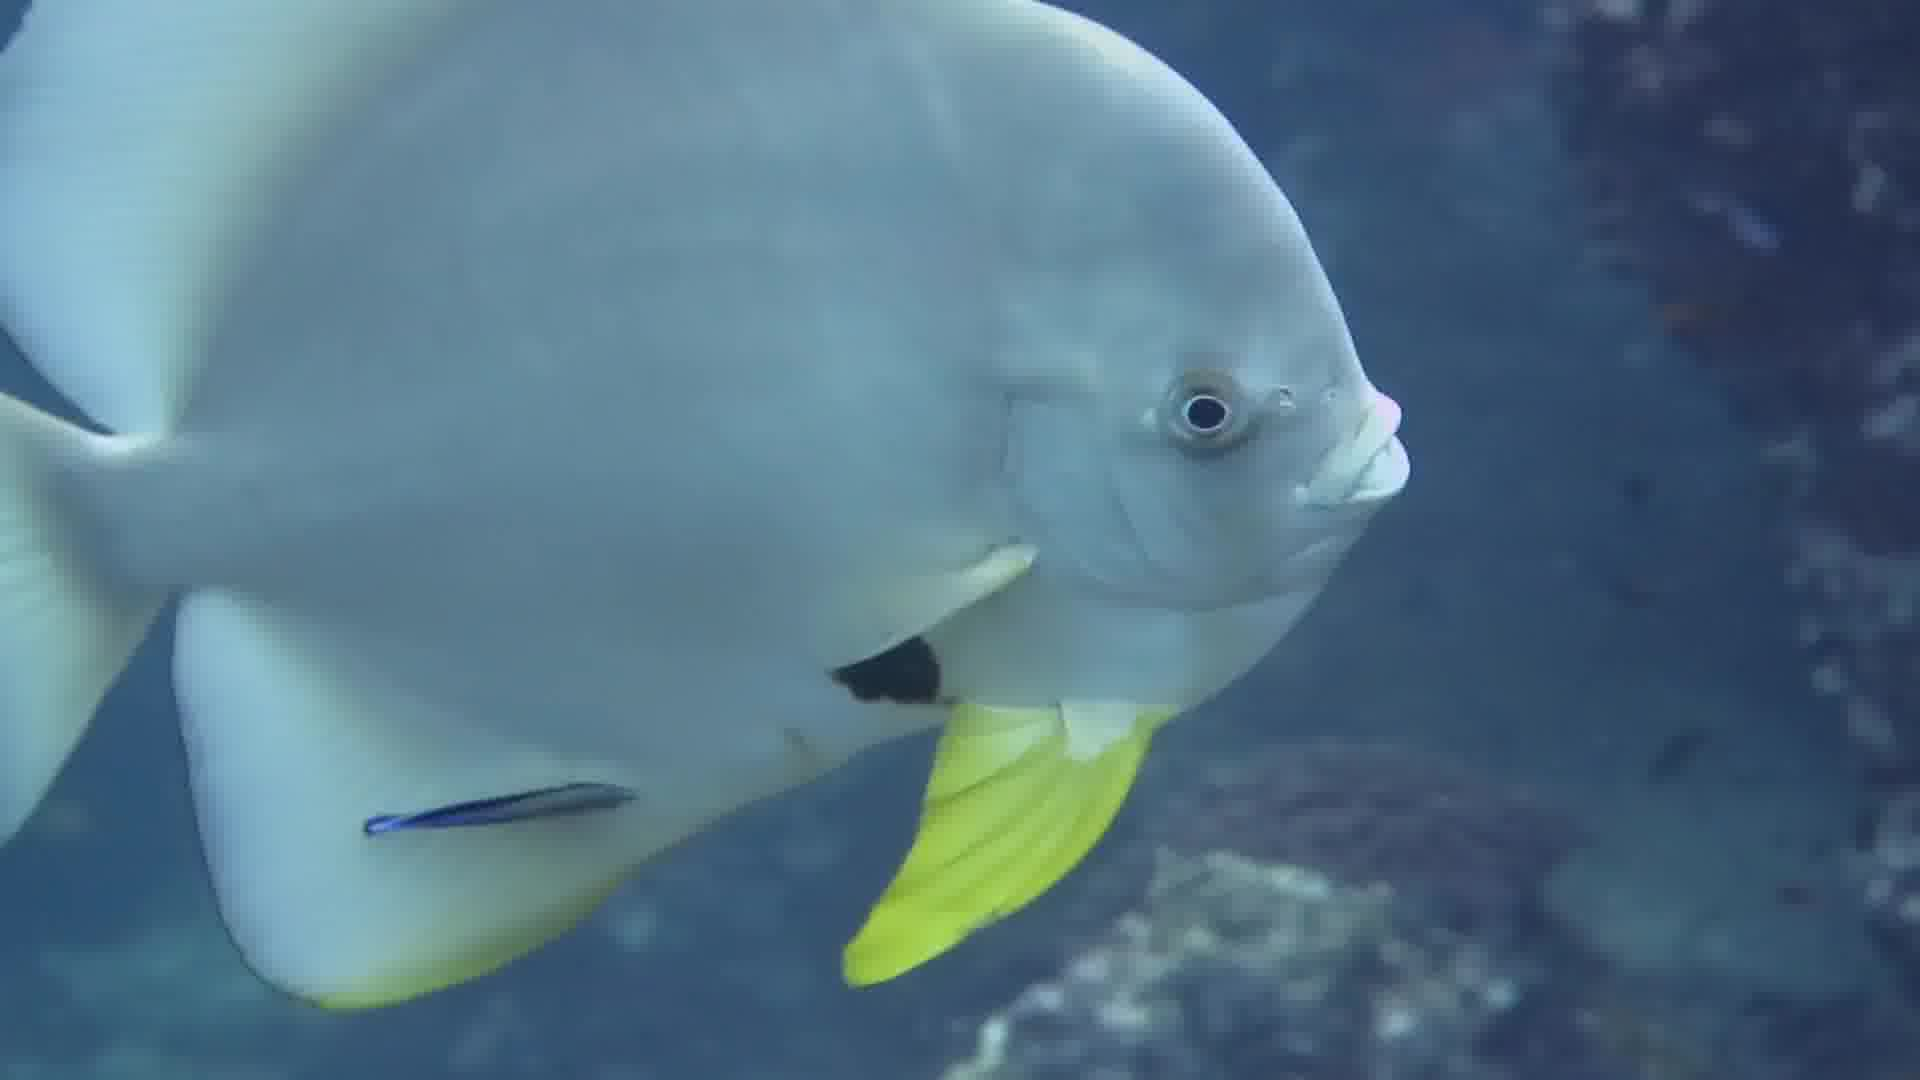Platax teira: (1, 1, 1414, 1080)
